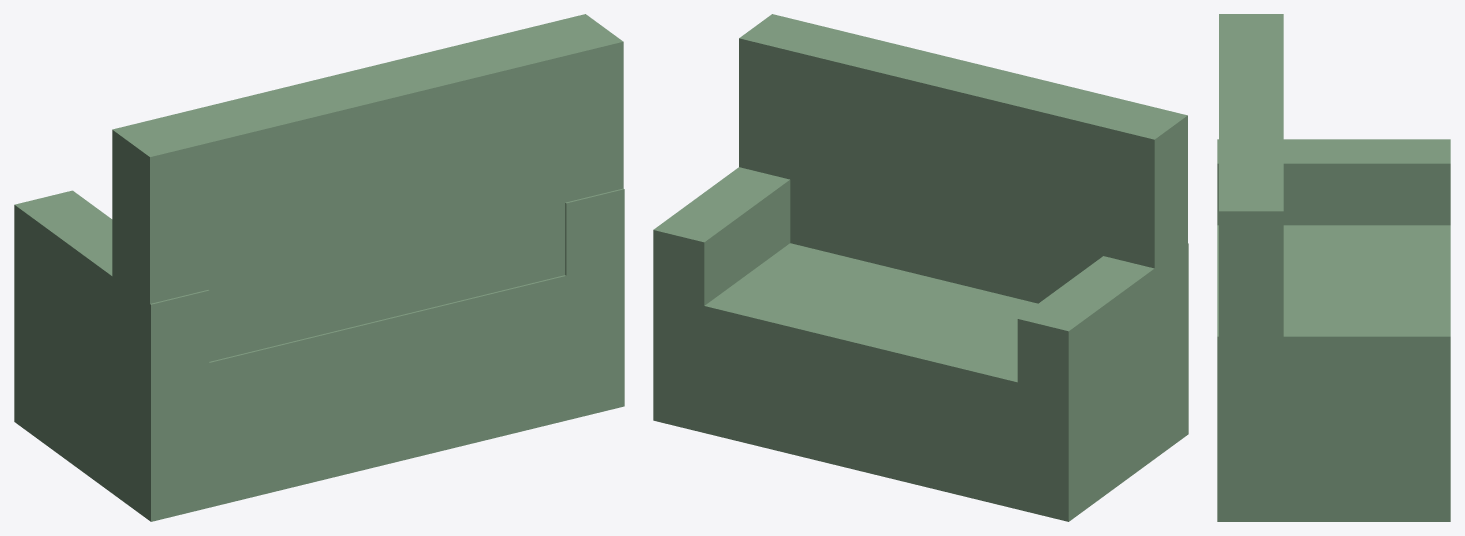
The model's file is couch_04.glb.
3 views of the same model, side by side, from view 1: azimuth 30°, elevation 25°; view 2: azimuth 150°, elevation 25°; view 3: azimuth 270°, elevation 25° (orthographic). The views are drawn at different scales.
Parts seen in each view (by area): view 1: back, base, arm-1, arm1; view 2: back, base, arm1, arm-1; view 3: base, back, arm1, arm-1.
Part boxes in pixels (bbox=[...]): back: bbox=[112, 14, 623, 403]; base: bbox=[14, 272, 624, 521]; arm-1: bbox=[14, 190, 209, 484]; arm1: bbox=[565, 188, 624, 385]; back: bbox=[739, 14, 1187, 356]; base: bbox=[653, 243, 1188, 521]; arm1: bbox=[653, 167, 790, 395]; arm-1: bbox=[1017, 243, 1188, 490]; base: bbox=[1217, 225, 1450, 521]; back: bbox=[1219, 14, 1283, 422]; arm1: bbox=[1217, 312, 1450, 492]; arm-1: bbox=[1217, 139, 1450, 225].
Bounding box in the file's own units: 1.3 × 0.955 × 0.65.
